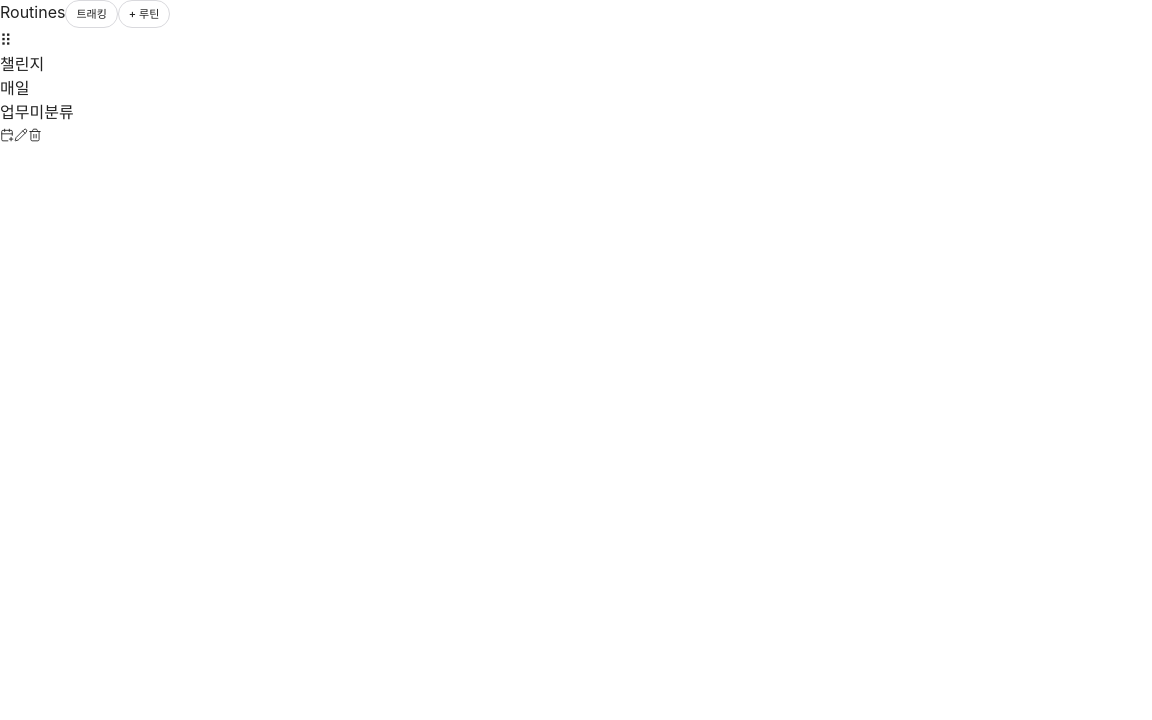
Test: RoutinesPanel behavior baseline › period: edit seeds the start/end pickers (formatted YYYY.MM.DD)
Click the button named "루틴 수정": x=21, y=135 [14, 128, 28, 142]
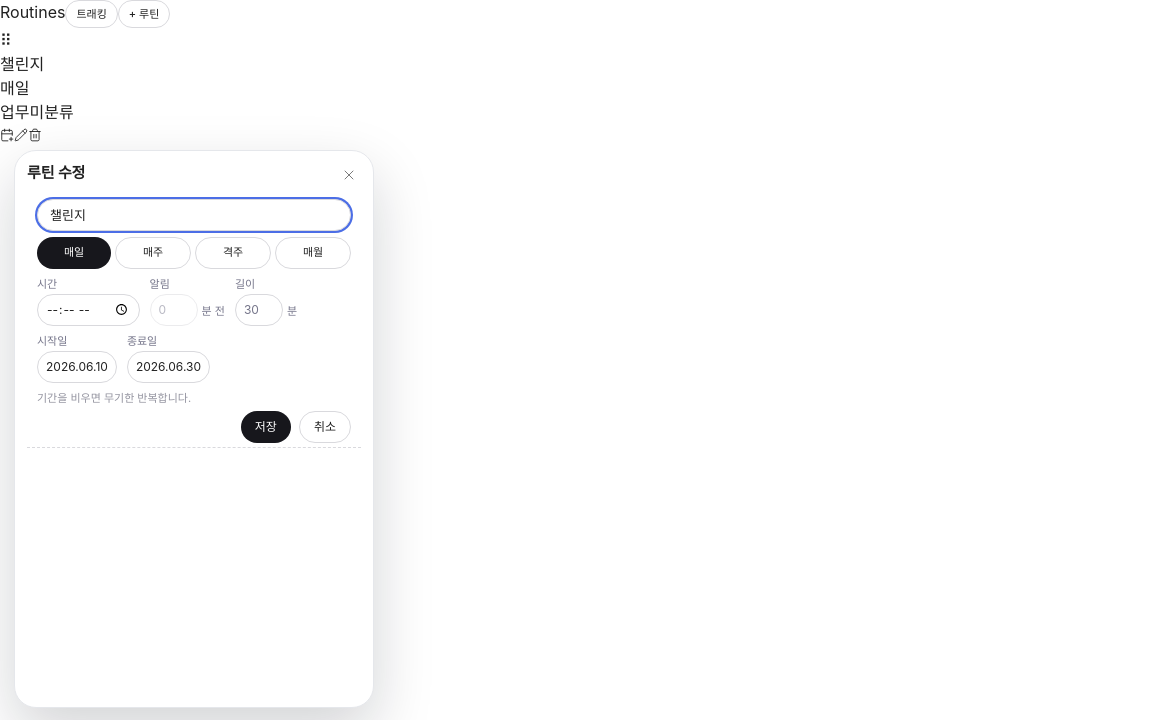
Result: the button "2026.06.10" is shown at [37, 351, 117, 383]
Result: the button "2026.06.30" is shown at [127, 351, 210, 383]
